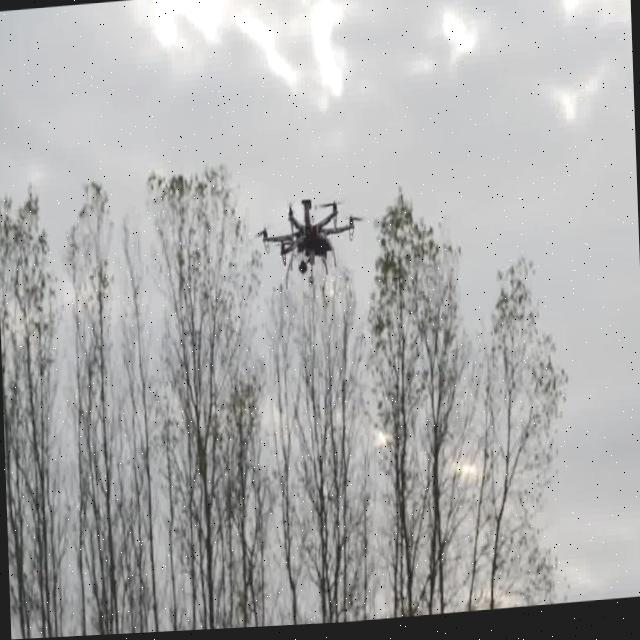drone: (253, 193, 366, 287)
